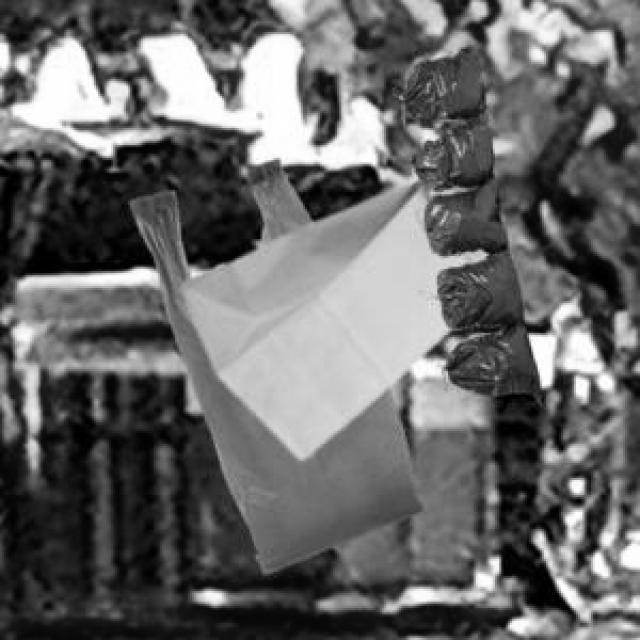miscellaneous trash: (397, 43, 537, 399)
paper: (177, 177, 484, 454)
